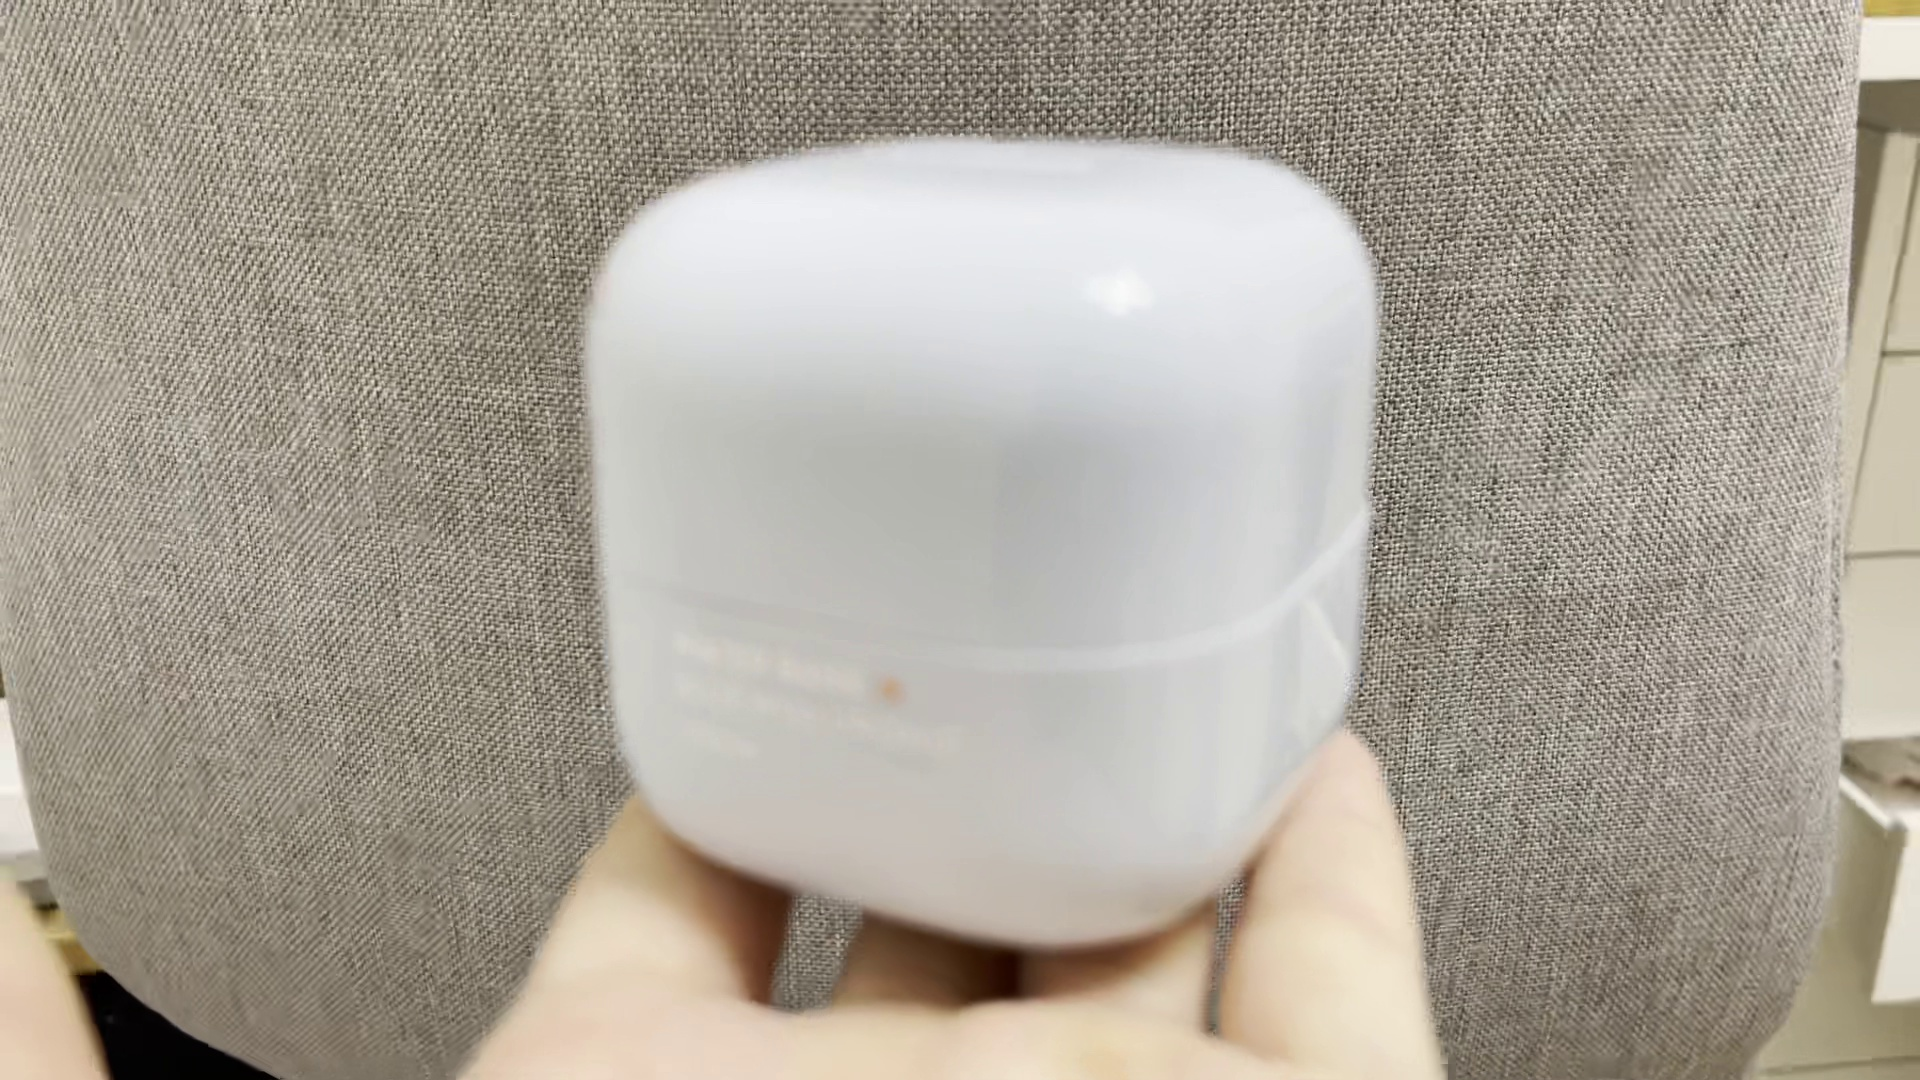cream: (584, 140, 1379, 948)
